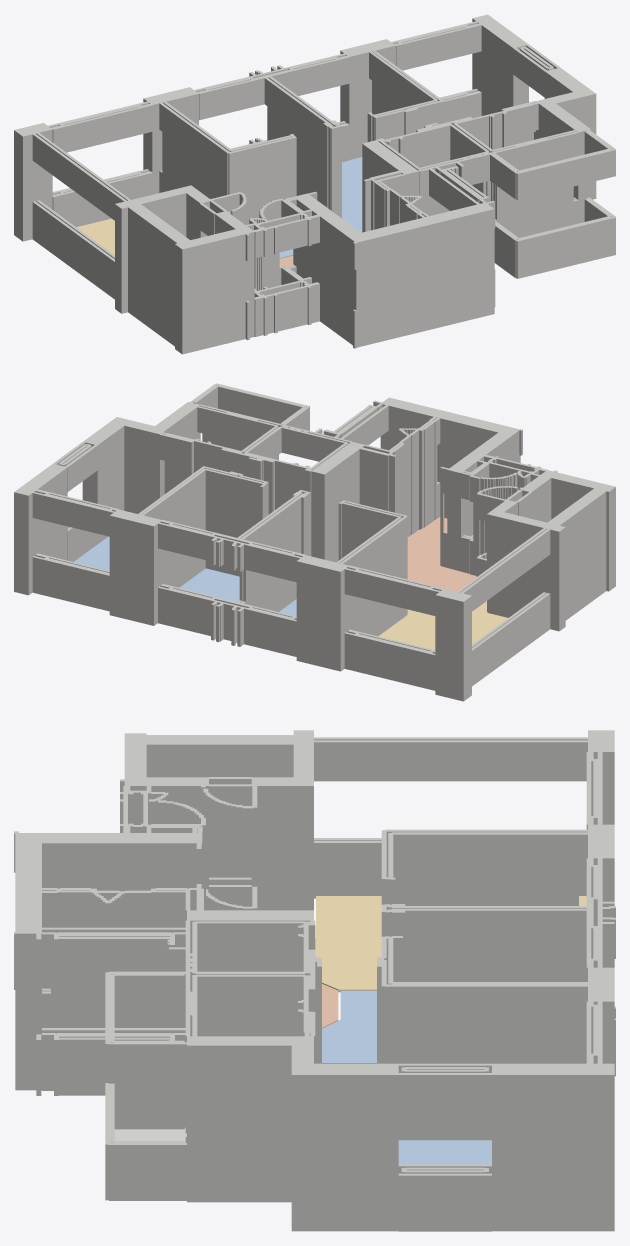
3 views of the same model, one above another, from view 1: azimuth 30°, elevation 25°; view 2: azimuth 150°, elevation 25°; view 3: azimuth 270°, elevation 25° (orthographic). The views are drawn at different scales.
Visible parts, largest first — view 1: walls, room:bedroom:7, room:living:0; view 2: walls, room:kitchen:5, room:living:0, room:bedroom:7, room:bedroom:6; view 3: walls, room:living:0, room:bedroom:9, room:bedroom:6, room:ledge:3.
Boxes of the visible parts, x1,y1,x2,y2 form: walls: (14, 14, 615, 354); room:bedroom:7: (342, 157, 362, 232); room:living:0: (76, 218, 114, 255); walls: (14, 383, 615, 701); room:kitchen:5: (407, 517, 476, 591); room:living:0: (378, 601, 507, 649); room:bedroom:7: (179, 568, 239, 601); room:bedroom:6: (74, 536, 109, 570); walls: (14, 730, 615, 1231); room:living:0: (315, 896, 586, 992); room:bedroom:9: (322, 990, 376, 1063); room:bedroom:6: (398, 1140, 491, 1164); room:ledge:3: (114, 1127, 185, 1142).
Bounding box in the file's own units: 13.22 × 2.8 × 9.76.
